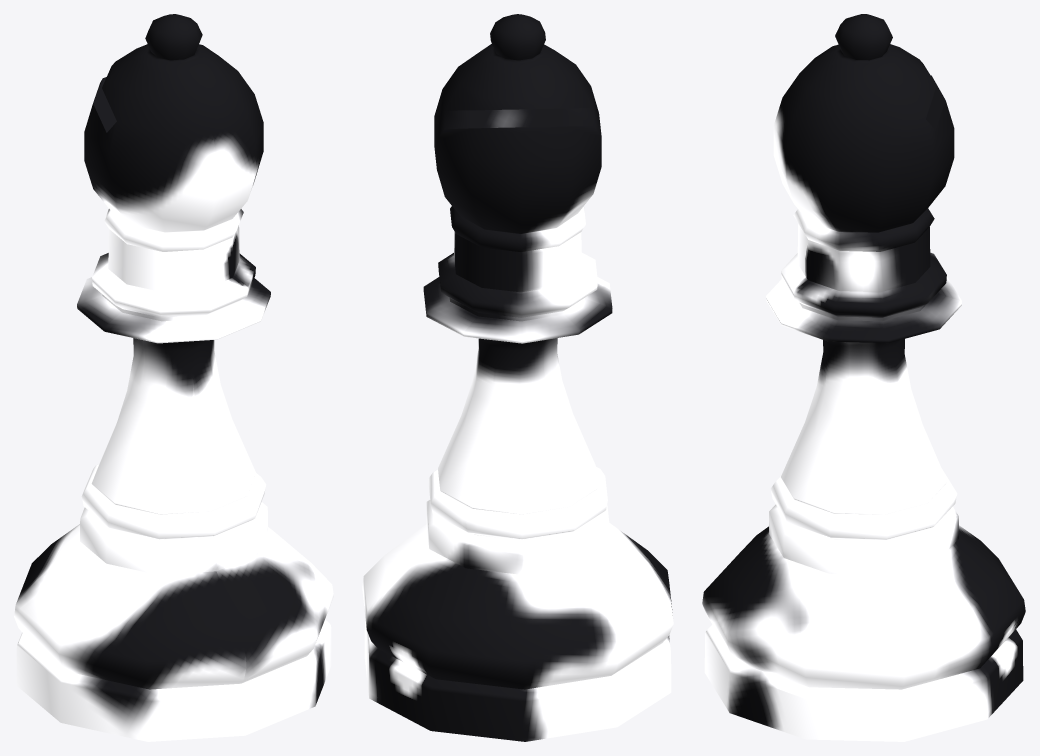
The model's file is item-2-7.glb.
The picture shows the model from 3 angles, left to right: view 1: azimuth 30°, elevation 25°; view 2: azimuth 150°, elevation 25°; view 3: azimuth 270°, elevation 25°; orthographic projection.
Parts seen in each view (by area): view 1: BlackBishop; view 2: BlackBishop; view 3: BlackBishop.
Boxes of the visible parts, left/top/right/bottom form: BlackBishop: left=14, top=14, right=333, bottom=741; BlackBishop: left=362, top=14, right=673, bottom=741; BlackBishop: left=702, top=14, right=1025, bottom=741.
Size of the model in its own units: 0.0928 by 0.2155 by 0.0958.
1 material, 1 textured.
